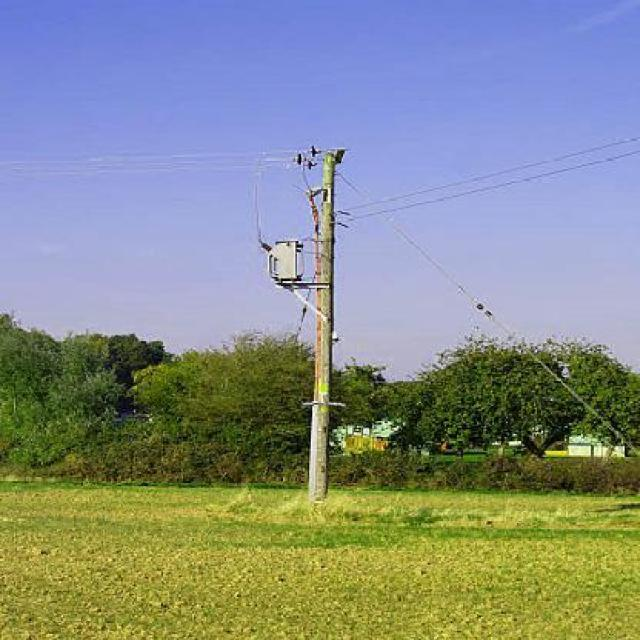light_pole: (274, 136, 380, 532)
